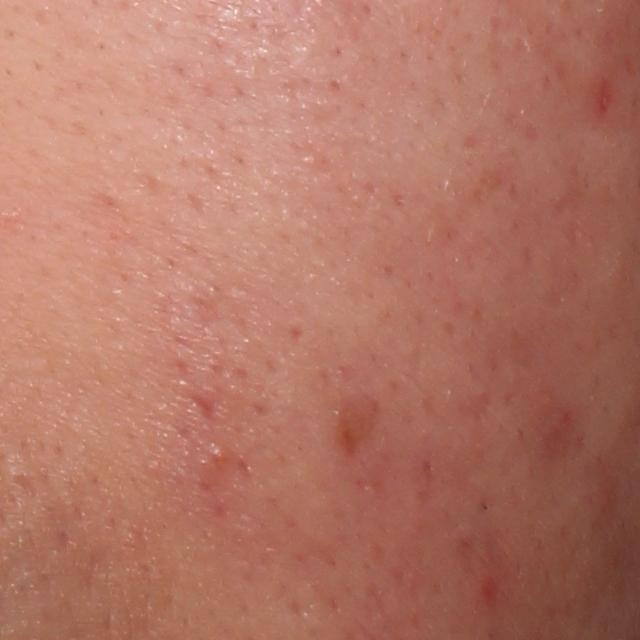atrophic_scar: (186, 392, 224, 426)
